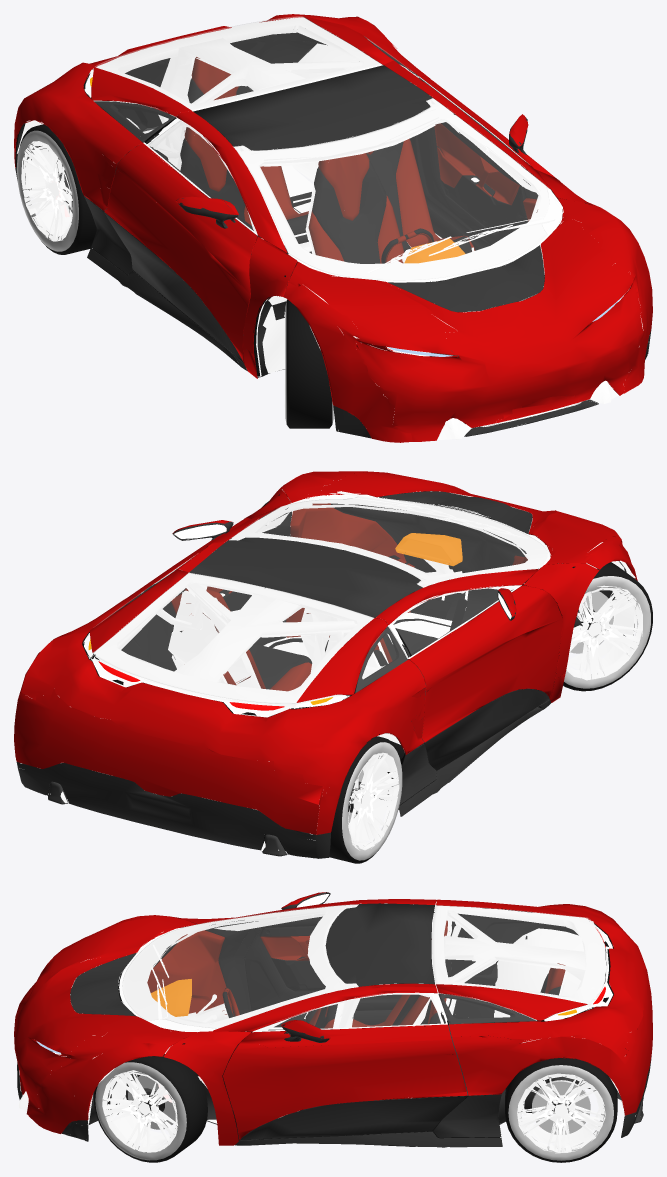
File: car-npc.glb
3 renders of one model, top to bottom at view 1: azimuth 30°, elevation 25°; view 2: azimuth 150°, elevation 25°; view 3: azimuth 270°, elevation 25°, orthographic. The views are drawn at different scales.
Visible parts, largest first — view 1: BodyRearPanelsColor1, BodyWindshield, BodyWindshieldGasket, BodyRoofPanel, InteriorDashSides, BodyUnderside, InteriorSeatsColor2, Mesh_87, WheelFrontLRim, InteriorDashMid, InteriorMid, InteriorSteeringDash; view 2: BodyRearPanelsColor1, BodyWindshield, BodyRoofPanel, BodyWindshieldGasket, WheelFrontLRim, InteriorDashMid, Mesh_87, InteriorDashSides, BodyUnderside, InteriorSeatsColor2, InteriorSteeringDash, InteriorFloormats (+3 smaller); view 3: BodyRearPanelsColor1, BodyWindshield, BodyRoofPanel, BodyWindshieldGasket, Mesh_87, WheelFrontLRim, BodyUnderside, InteriorDashSides, InteriorMid, InteriorDashMid, WheelFrontLBrakeDisc, InteriorSeatsColor2 (+1 smaller).
Boxes of the visible parts, x1,y1,x2,y2 form: BodyRearPanelsColor1: [14, 14, 652, 442]; BodyWindshield: [94, 16, 548, 280]; BodyWindshieldGasket: [17, 17, 647, 440]; BodyRoofPanel: [15, 65, 651, 438]; InteriorDashSides: [184, 57, 537, 263]; BodyUnderside: [15, 32, 527, 423]; InteriorSeatsColor2: [180, 78, 471, 263]; Mesh_87: [17, 124, 333, 428]; WheelFrontLRim: [21, 141, 285, 409]; InteriorDashMid: [185, 122, 519, 281]; InteriorMid: [86, 172, 592, 376]; InteriorSteeringDash: [404, 238, 465, 263]; BodyRearPanelsColor1: [14, 471, 637, 834]; BodyWindshield: [93, 497, 547, 703]; BodyRoofPanel: [15, 491, 634, 858]; BodyWindshieldGasket: [19, 480, 635, 851]; WheelFrontLRim: [348, 585, 642, 850]; InteriorDashMid: [175, 503, 528, 622]; Mesh_87: [261, 501, 652, 863]; InteriorDashSides: [171, 494, 527, 735]; BodyUnderside: [48, 534, 628, 856]; InteriorSeatsColor2: [176, 605, 437, 691]; InteriorSteeringDash: [395, 533, 462, 566]; InteriorFloormats: [269, 598, 467, 647]; BodyRearPanelsColor1: [14, 892, 652, 1145]; BodyWindshield: [122, 904, 606, 1031]; BodyRoofPanel: [17, 892, 651, 1147]; BodyWindshieldGasket: [18, 902, 642, 1143]; Mesh_87: [93, 936, 617, 1162]; WheelFrontLRim: [102, 1070, 605, 1153]; BodyUnderside: [42, 908, 643, 1124]; InteriorDashSides: [147, 920, 565, 1106]; InteriorMid: [178, 918, 499, 1140]; InteriorDashMid: [118, 926, 325, 1017]; WheelFrontLBrakeDisc: [128, 1075, 590, 1134]; InteriorSeatsColor2: [304, 973, 560, 1099].
Size of the model in its own units: 2.54 by 1.15 by 4.36.
